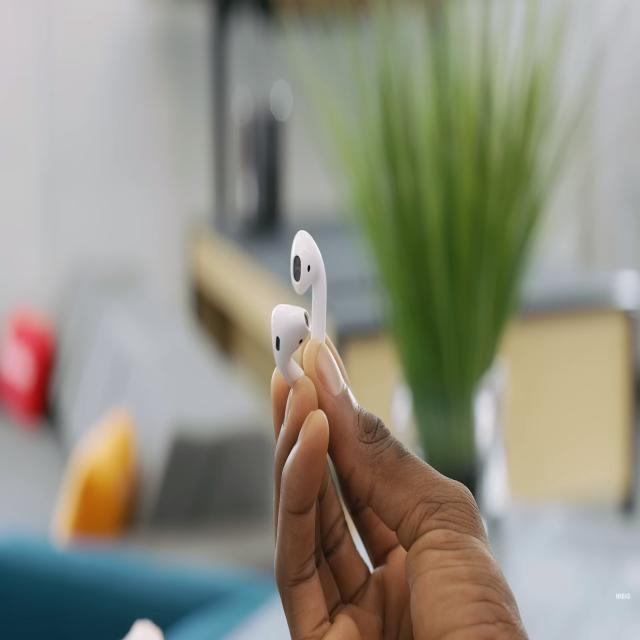airpods: (271, 229, 330, 388)
